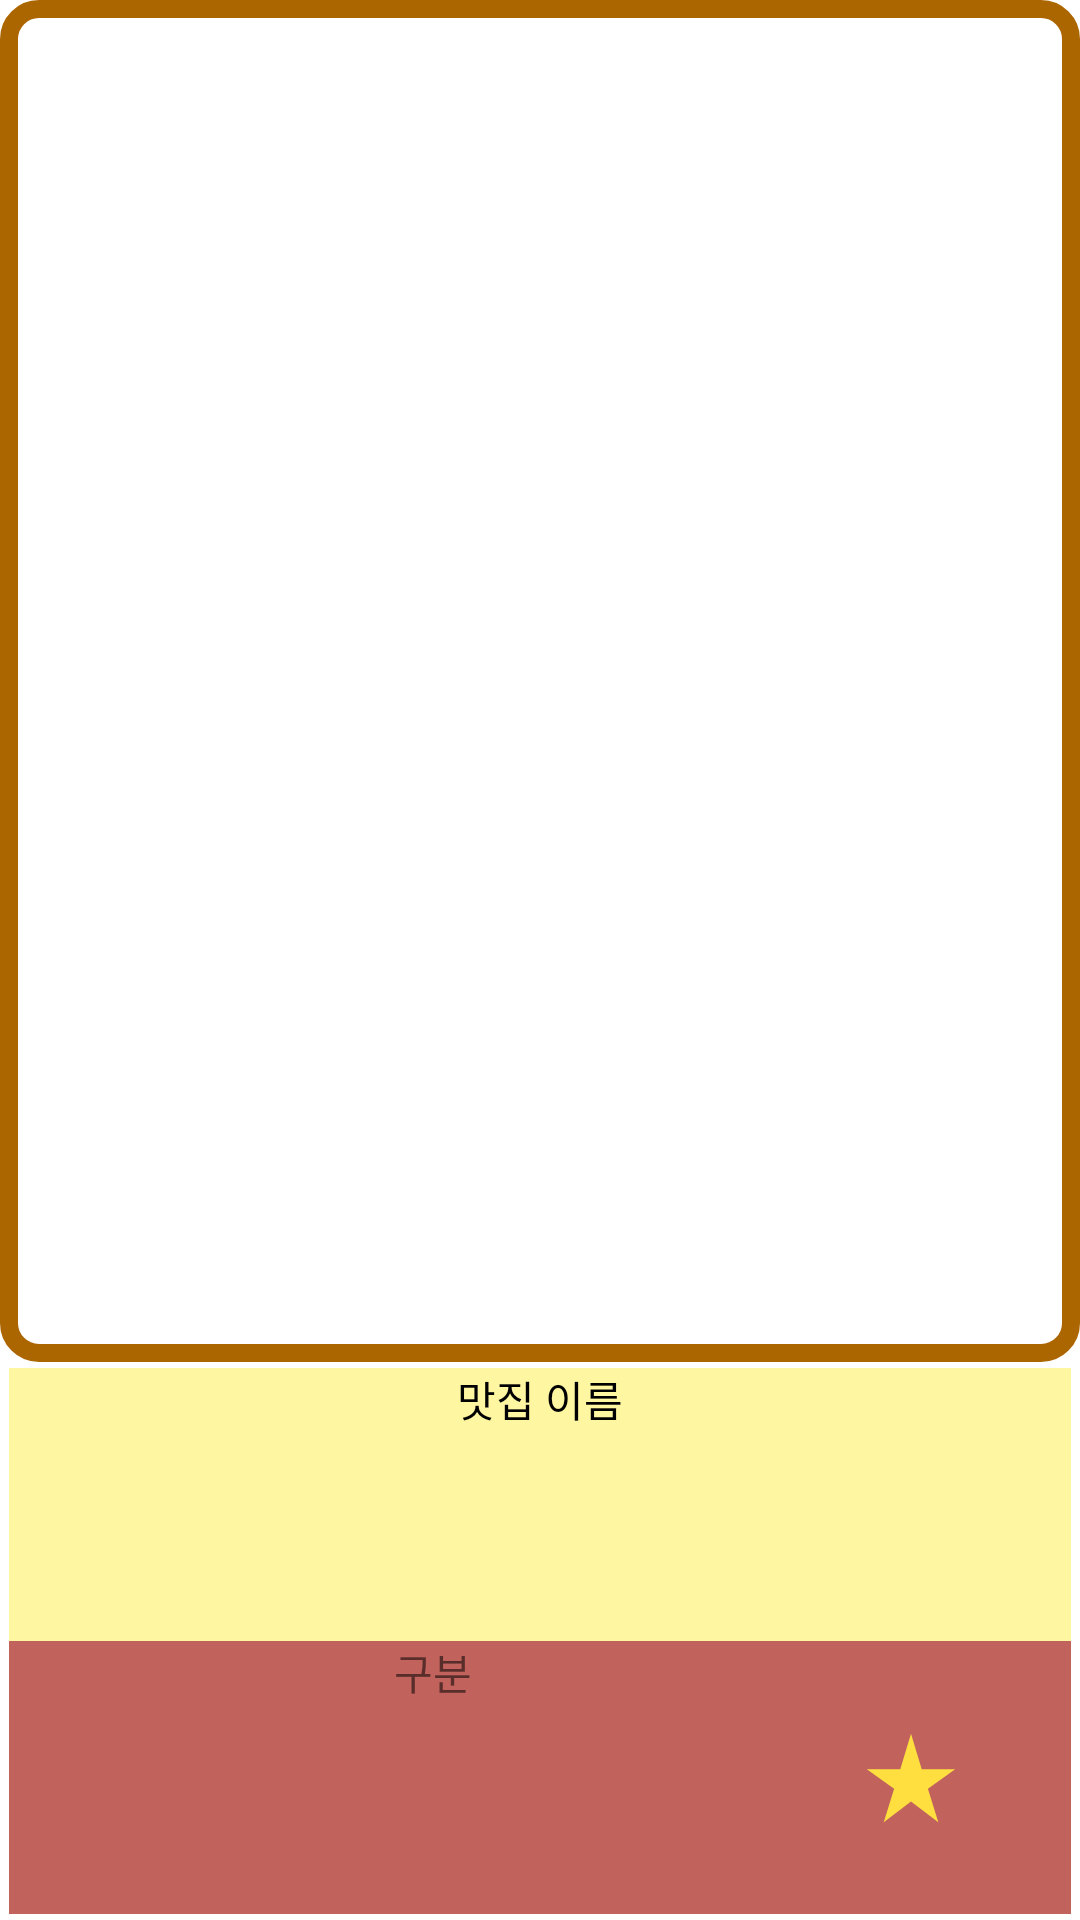

Screen size 1080w x 1920h. Icon name, then its center in pixels as (x,y):
star: (911,1778)
